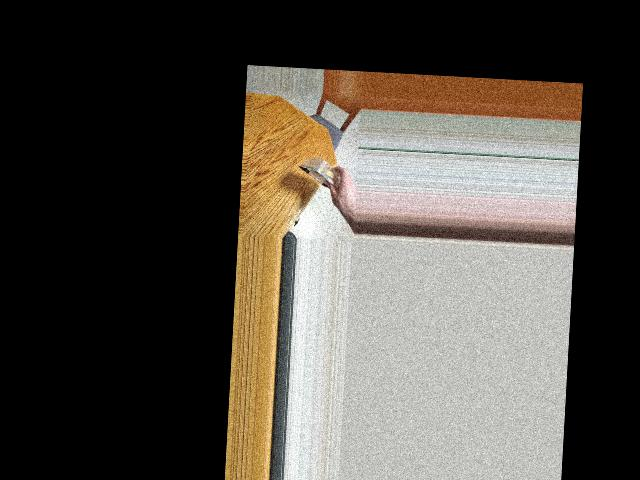cheese: (306, 146, 352, 205)
